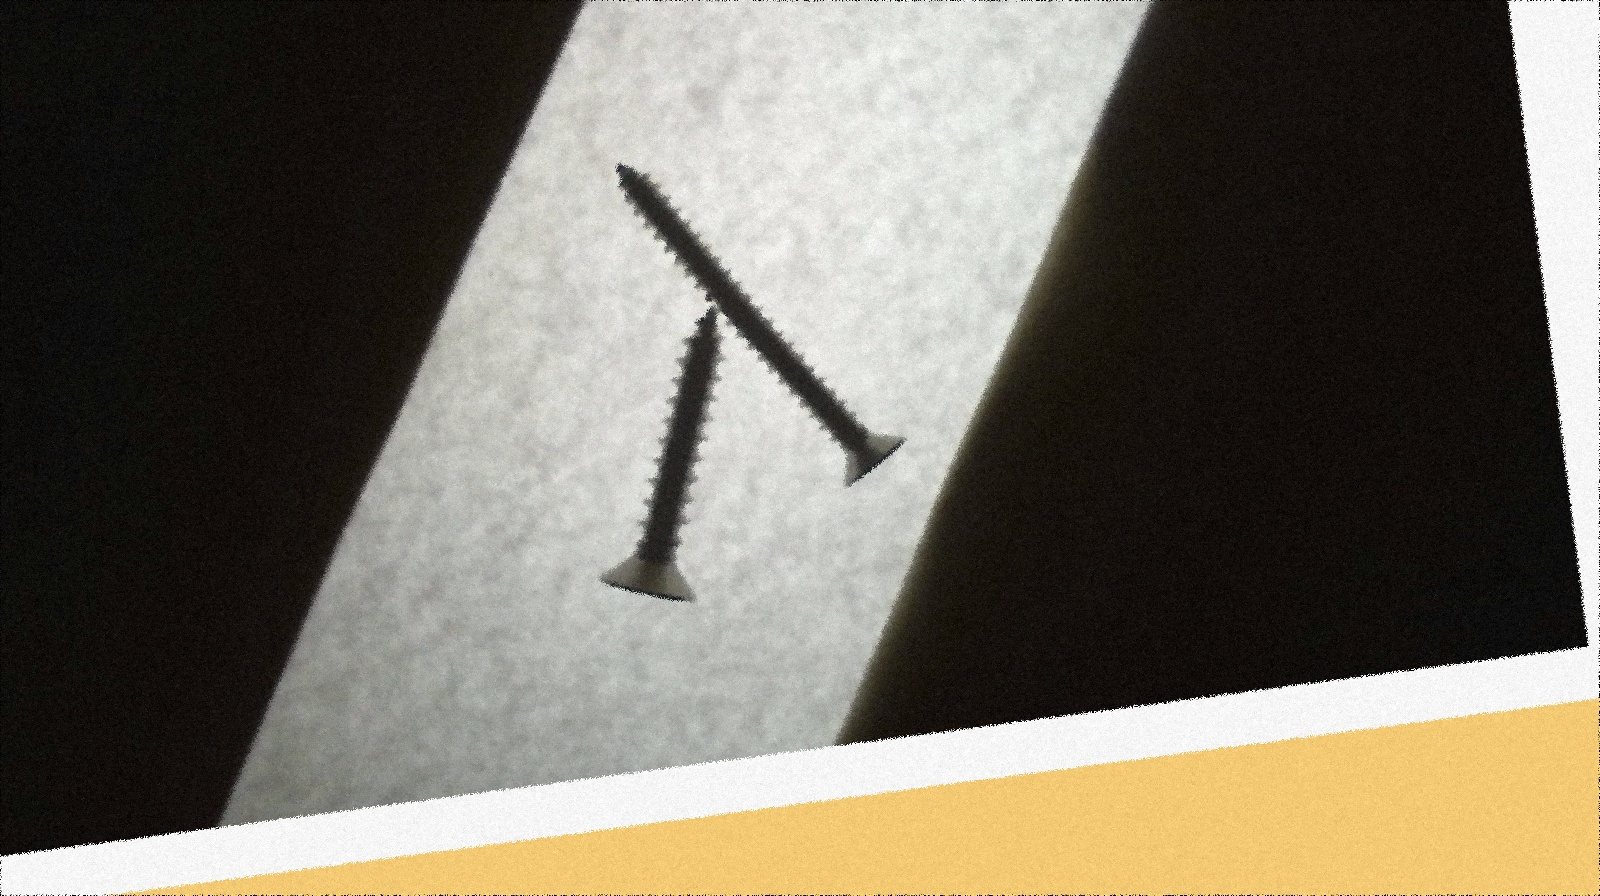S001: (569, 305, 756, 619)
S002: (611, 122, 912, 515)
